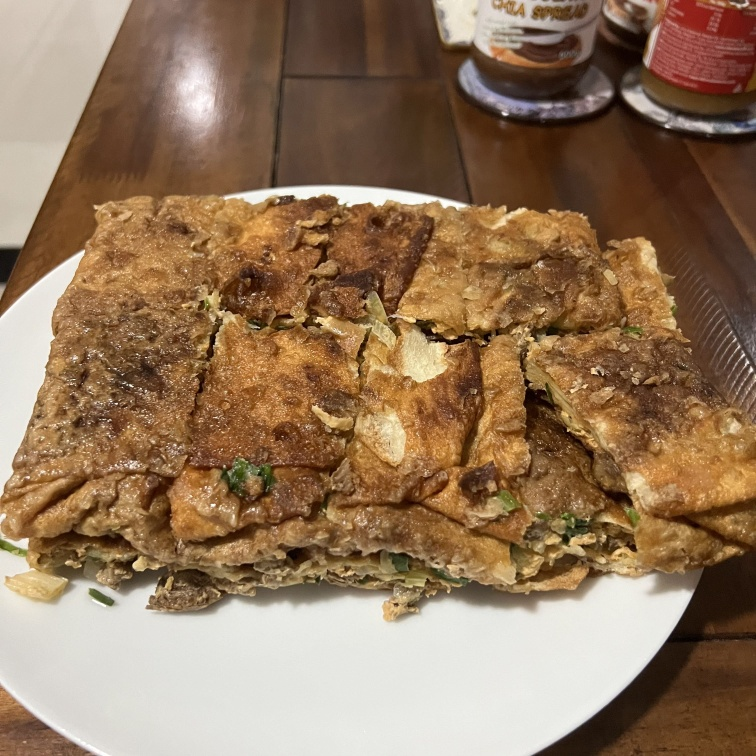martabak telor: (526, 308, 756, 555), (13, 310, 194, 565), (351, 321, 527, 567), (194, 302, 346, 565), (386, 188, 617, 324), (65, 166, 250, 305), (233, 165, 377, 319)
